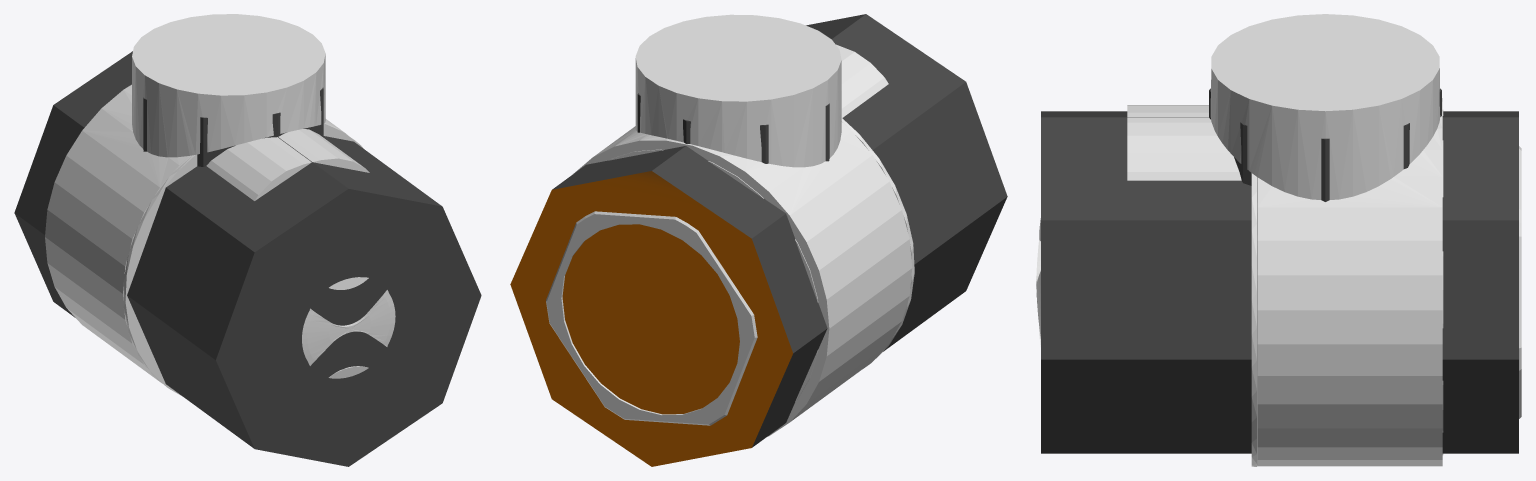
Rendered from MK4_MT_simplified.glb.
The picture shows the model from 3 angles, left to right: view 1: azimuth 30°, elevation 25°; view 2: azimuth 150°, elevation 25°; view 3: azimuth 270°, elevation 25°; orthographic projection. The views are drawn at different scales.
Parts seen in each view (by area): view 1: Cylinder, MK4_MT, Cylinder.001; view 2: Cylinder, MK4_MT, Cylinder.001; view 3: MK4_MT, Cylinder, Cylinder.001.
Part boxes in pixels (x1=…): Cylinder: x1=14, y1=51, x2=481, y2=466; MK4_MT: x1=45, y1=14, x2=395, y2=396; Cylinder.001: x1=143, y1=87, x2=323, y2=166; Cylinder: x1=510, y1=14, x2=1007, y2=466; MK4_MT: x1=546, y1=14, x2=914, y2=436; Cylinder.001: x1=637, y1=93, x2=829, y2=163; MK4_MT: x1=1036, y1=14, x2=1521, y2=466; Cylinder: x1=1041, y1=111, x2=1518, y2=453; Cylinder.001: x1=1209, y1=88, x2=1441, y2=201.
Bounding box in the file's own units: 0.081 × 0.0938 × 0.1065.
Materials: 2 (2 with a texture image).
